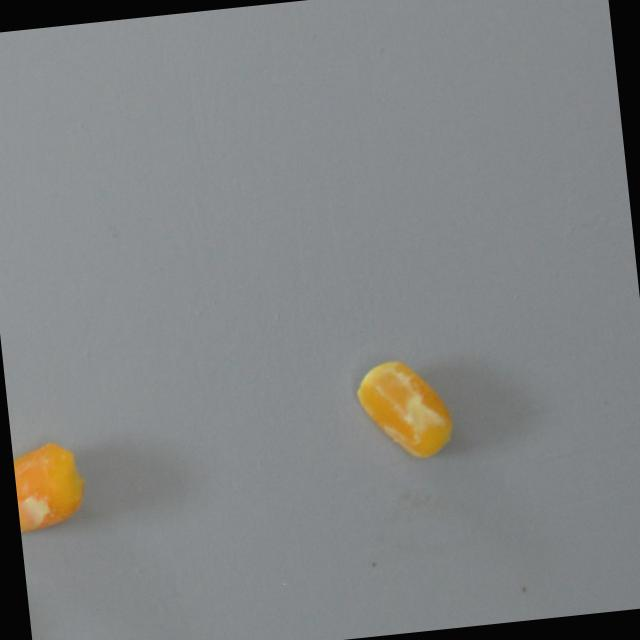pelicula: (353, 351, 457, 463), (11, 438, 92, 536)
